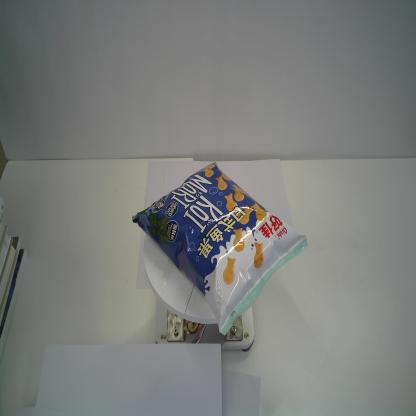Puffed Food: (132, 161, 308, 336)
